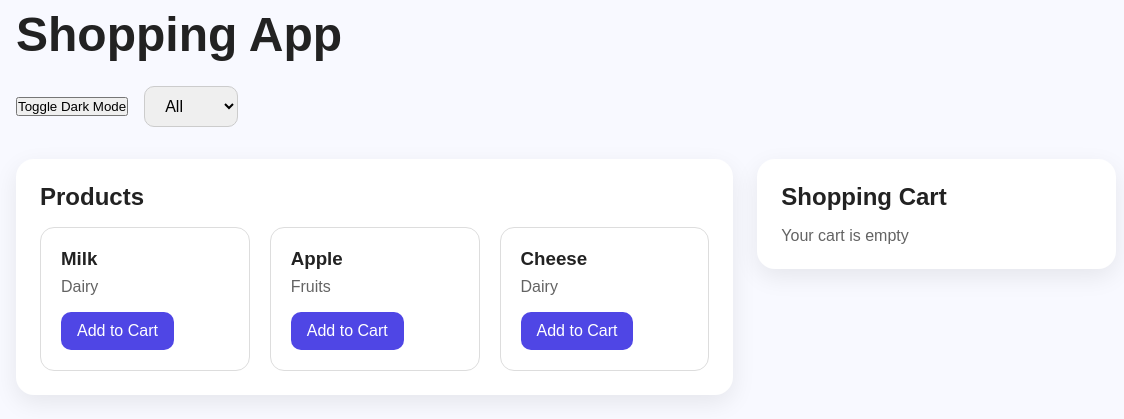
adds items to cart
The image size is (1124, 419).
Click the button "Add to Cart" below "Fruits": (347,331) [291, 312, 404, 350]
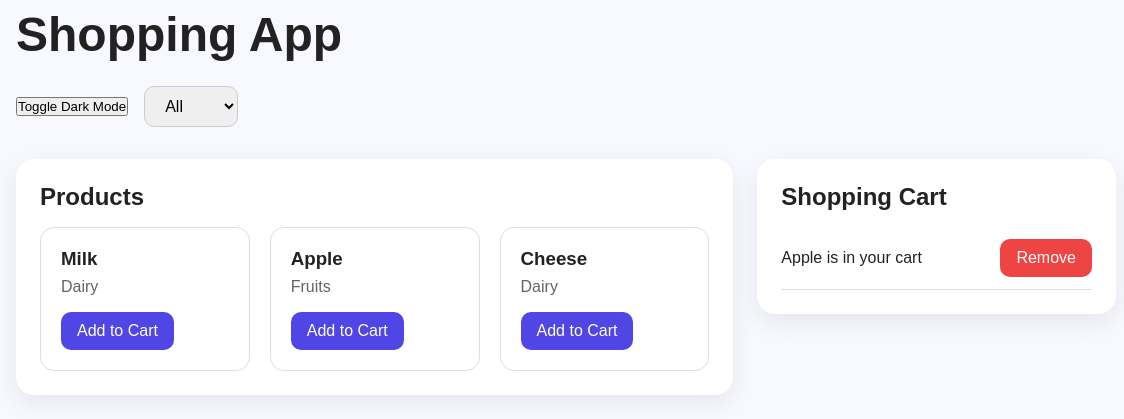
Expected: the heading "Shopping Cart" is shown, [781, 183, 947, 210]
Expected: the text "Apple is in your cart" is shown, [781, 249, 922, 267]
Click the button "Add to Cart" below "Milk": (117,331) [61, 312, 174, 350]
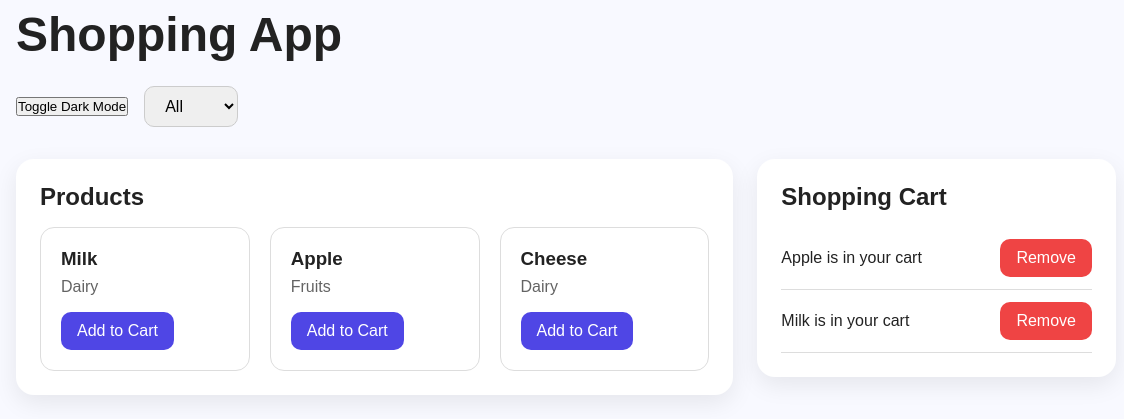
Expected: the heading "Shopping Cart" is shown, [781, 183, 947, 210]
Expected: the text "Milk is in your cart" is shown, [781, 312, 909, 330]
